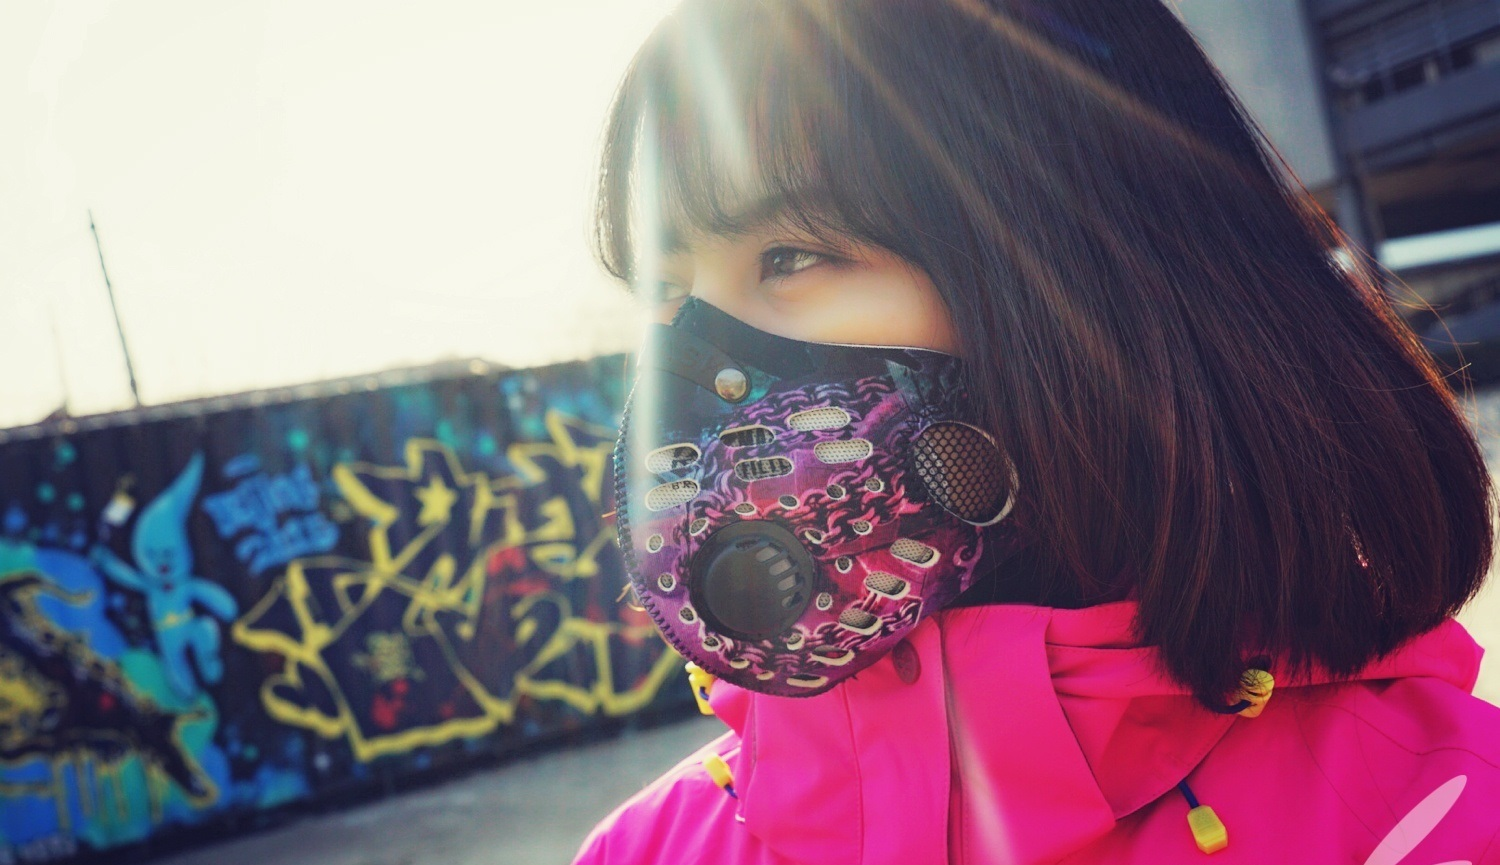face_mask: (615, 102, 978, 680)
